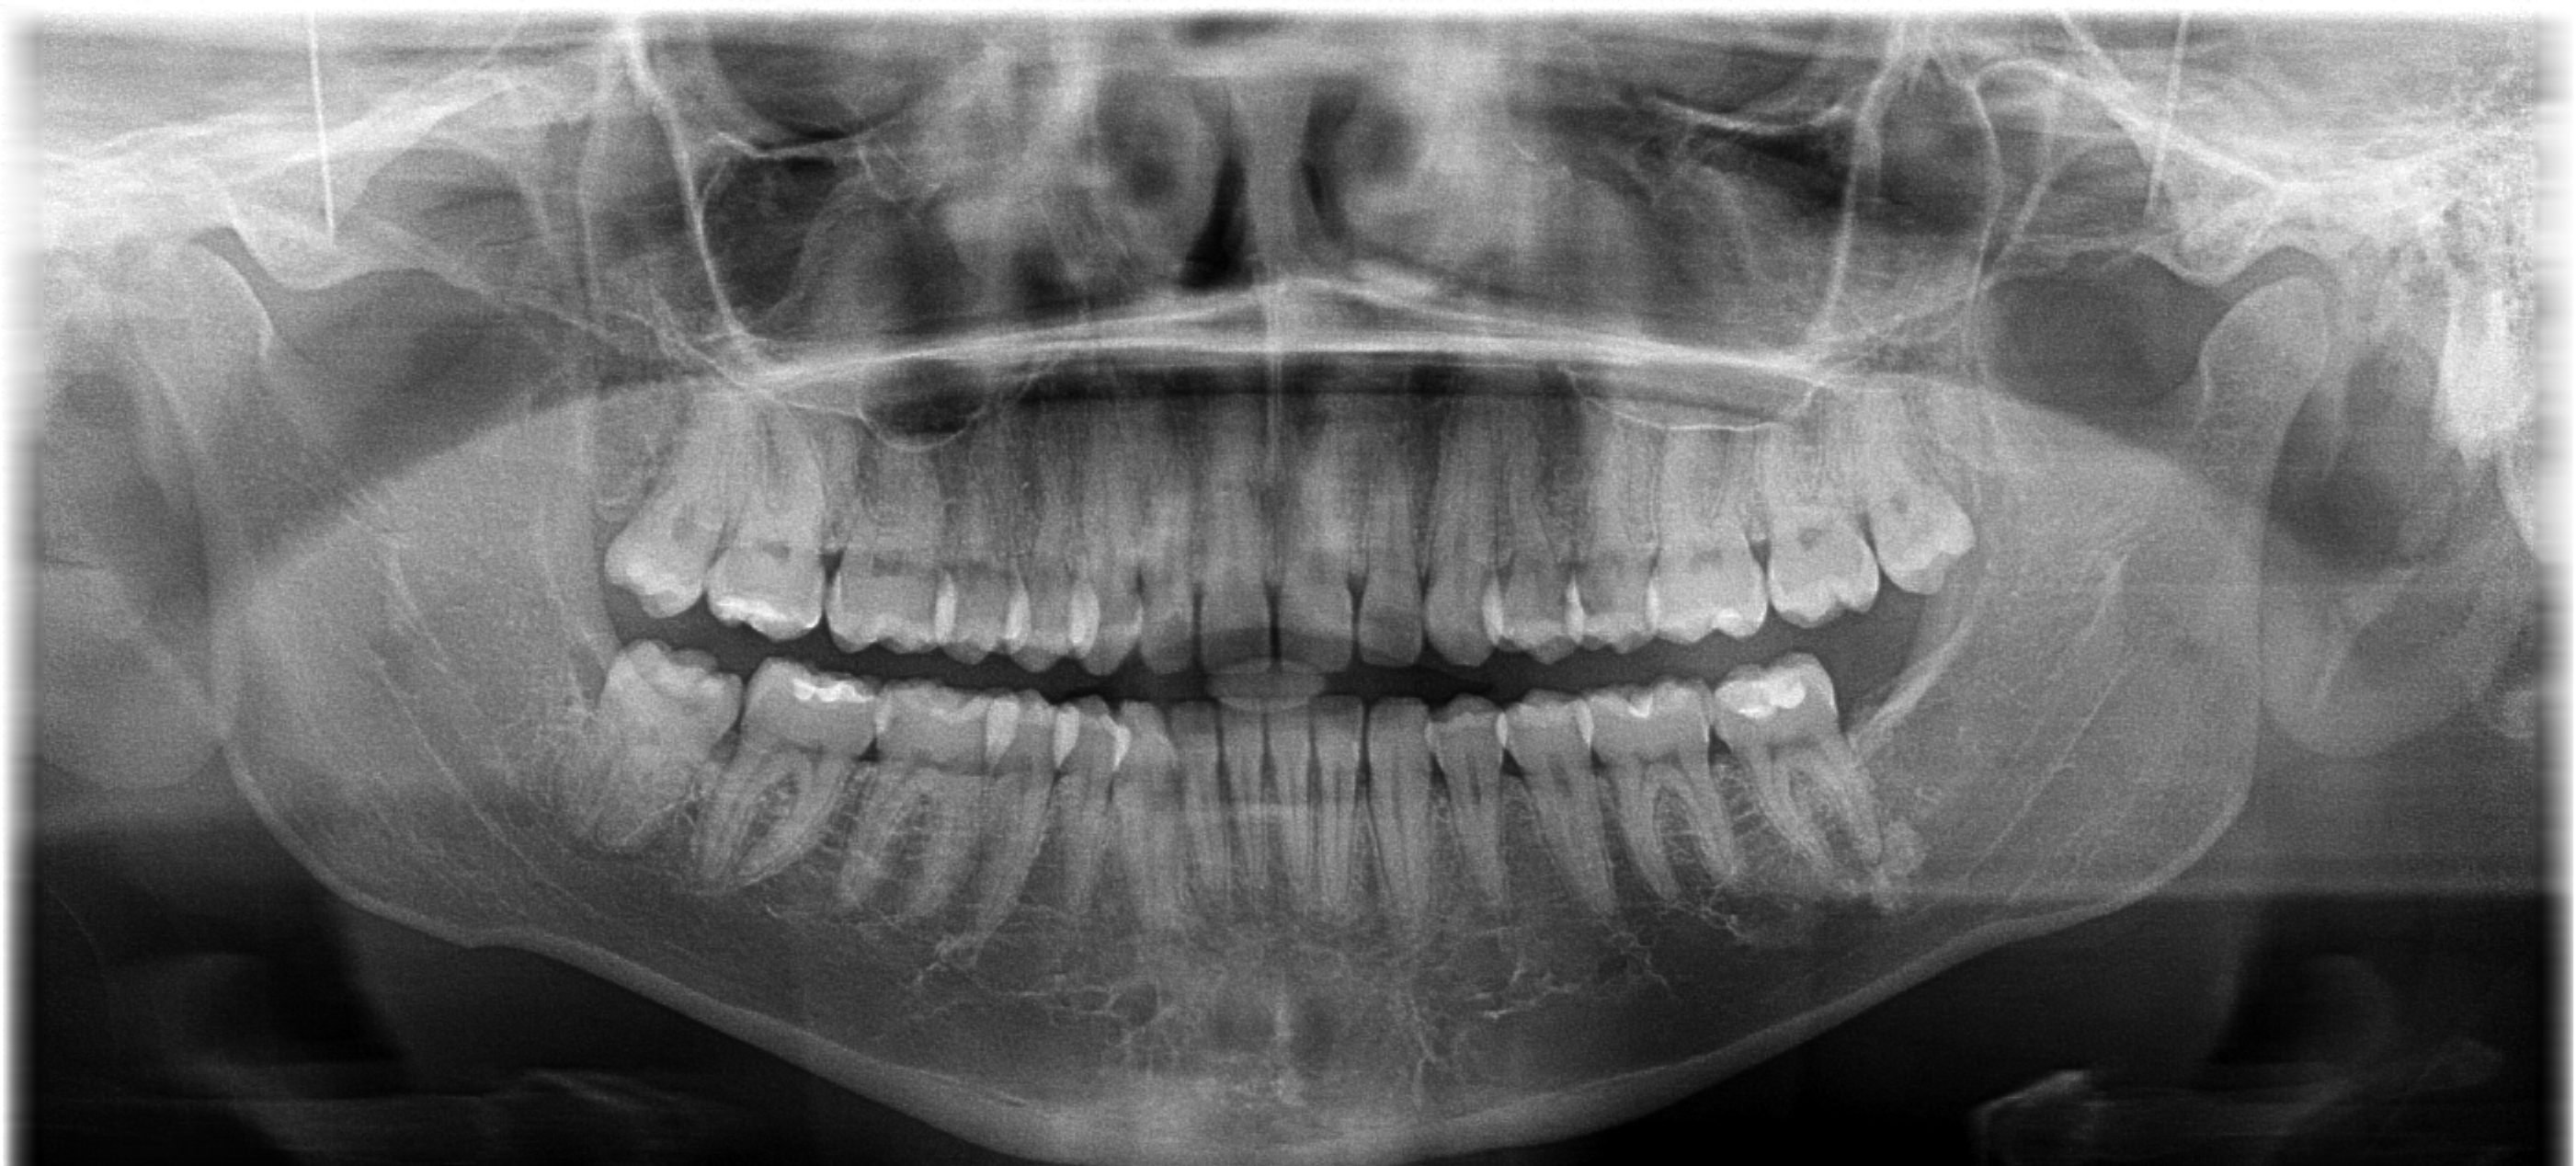cordal: (567, 631, 767, 877), (1830, 368, 2011, 616), (595, 384, 775, 632)
